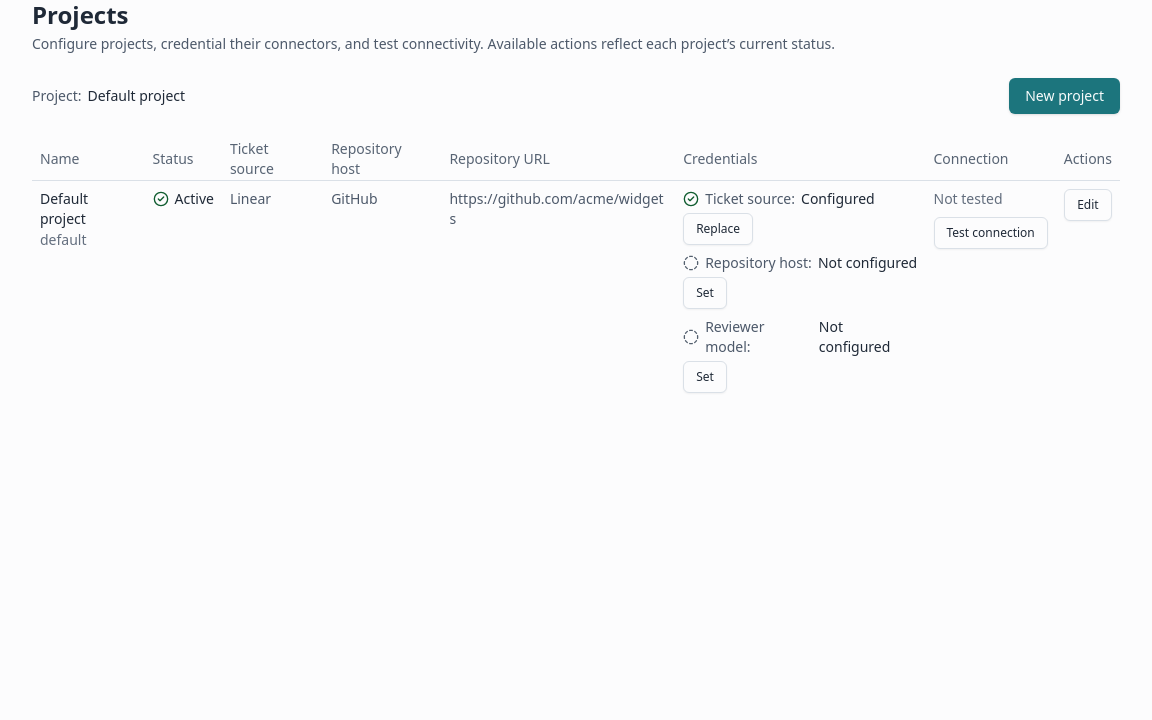
Test: ProjectsScreen › AC3 — "New project" opens the create form
Expected: the table with test id "project-list-table" is shown, x1=32 y1=138 x2=1120 y2=401
Click the button with test id "project-new-button".
click(1065, 96)  # box x1=1009 y1=78 x2=1120 y2=114
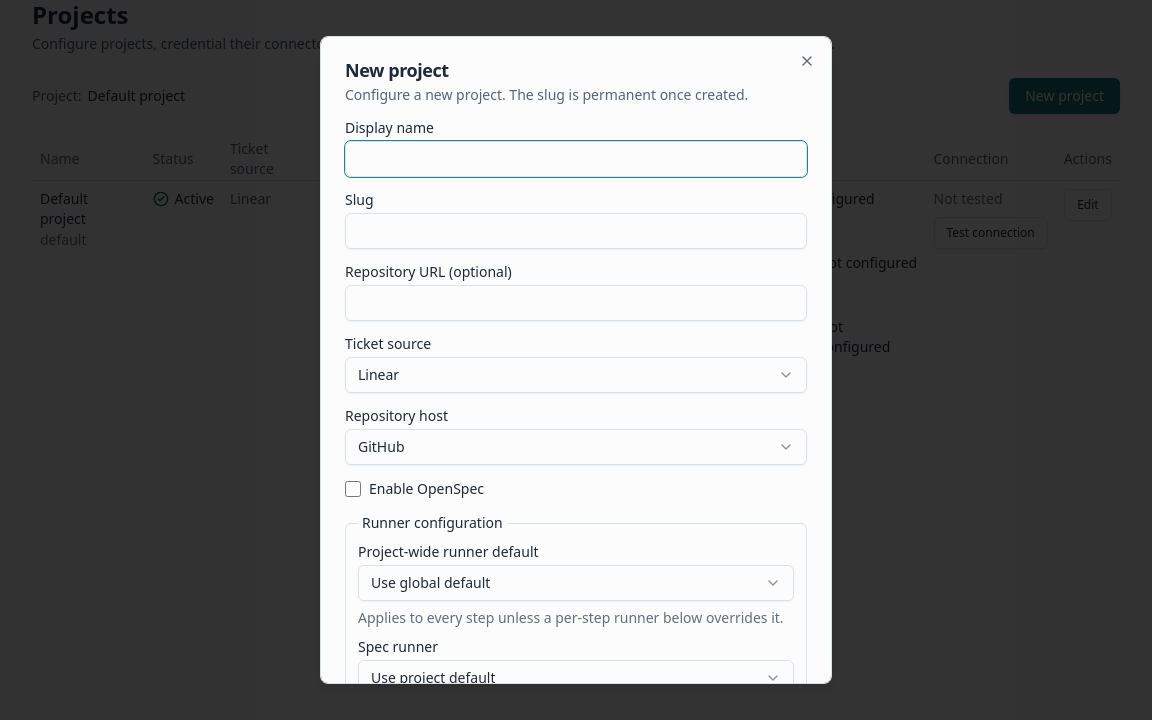
Now the dialog with test id "project-form-dialog" is shown, box x1=320 y1=36 x2=832 y2=684
Now the heading "New project" is shown, box x1=345 y1=58 x2=449 y2=82
